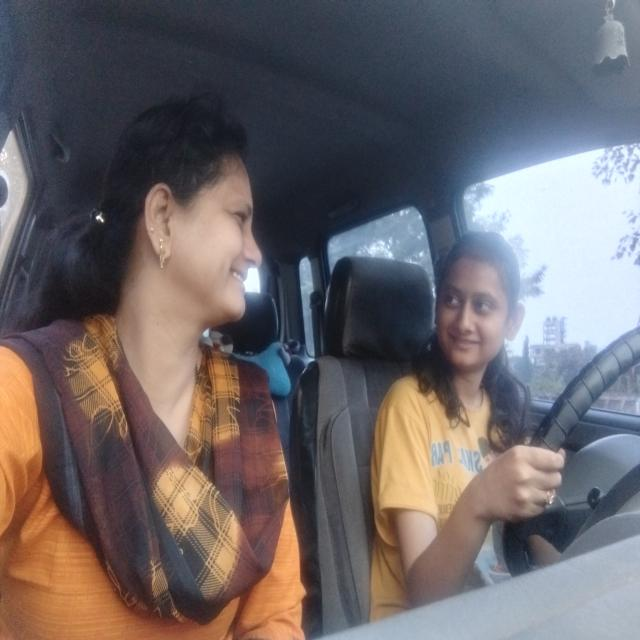LeftRight: (429, 225, 526, 380)
person: (101, 95, 265, 361)
